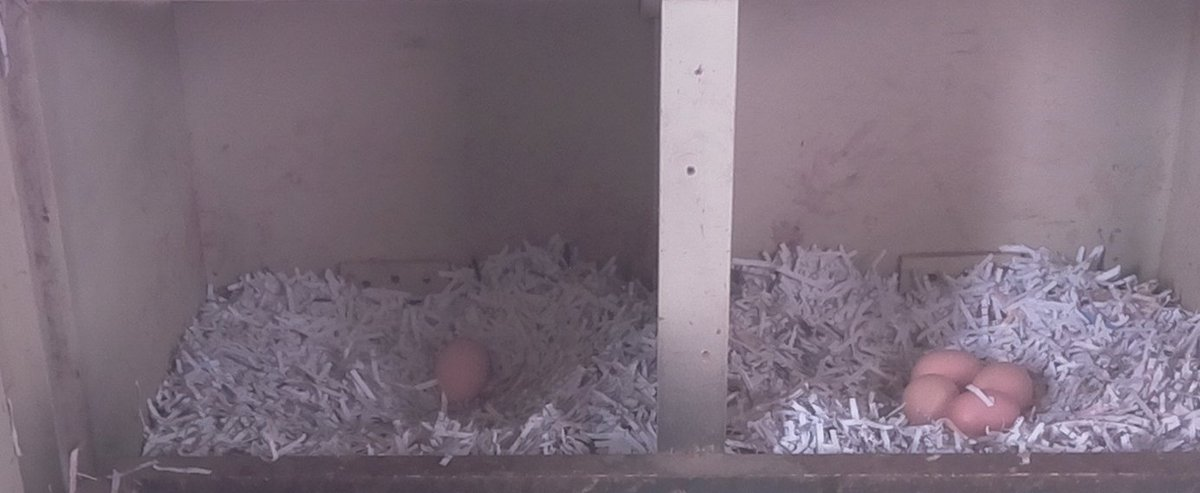egg: (433, 335, 492, 414), (969, 359, 1038, 416), (896, 373, 963, 428), (945, 387, 1023, 434), (906, 345, 988, 387)
